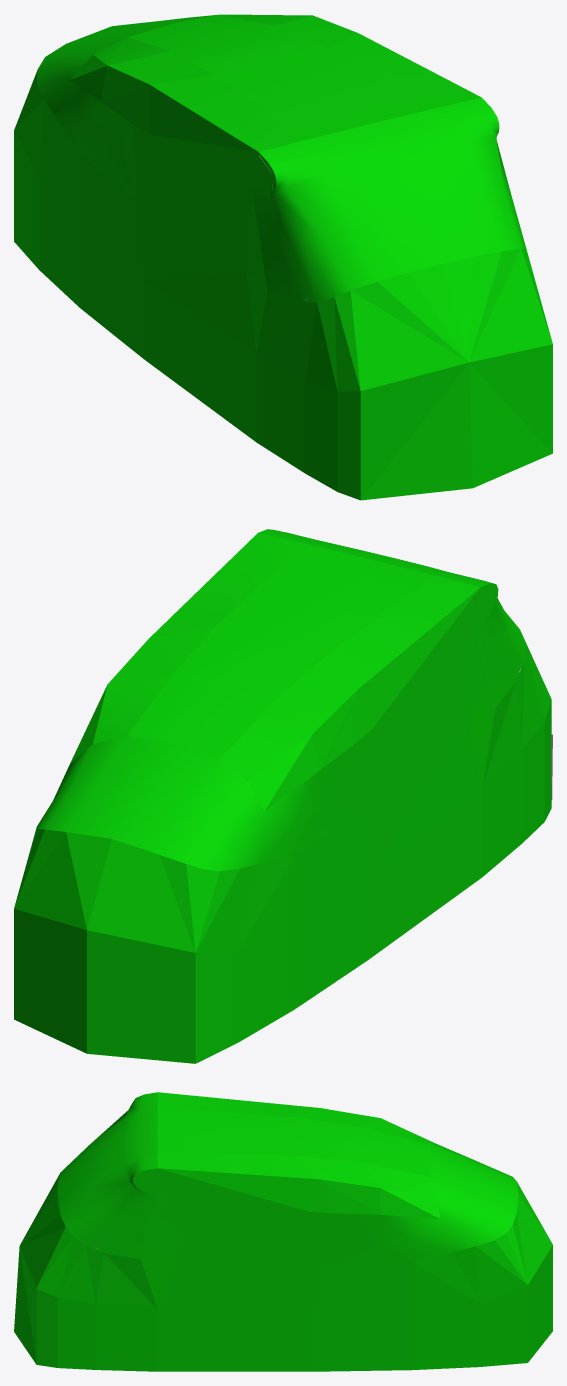
Rendered from Cessna172SP_AS1000_interior_LOD04.gltf.
3 renders of one model, top to bottom at view 1: azimuth 30°, elevation 25°; view 2: azimuth 150°, elevation 25°; view 3: azimuth 270°, elevation 25°, orthographic. The views are drawn at different scales.
Parts seen in each view (by area): view 1: Occluder; view 2: Occluder; view 3: Occluder.
Boxes of the visible parts, box(x1,y1,x2,y2) form: Occluder: box(14, 14, 552, 500); Occluder: box(14, 529, 551, 1063); Occluder: box(14, 1092, 552, 1371).
Size of the model in its own units: 1.07 by 1.31 by 3.13.
